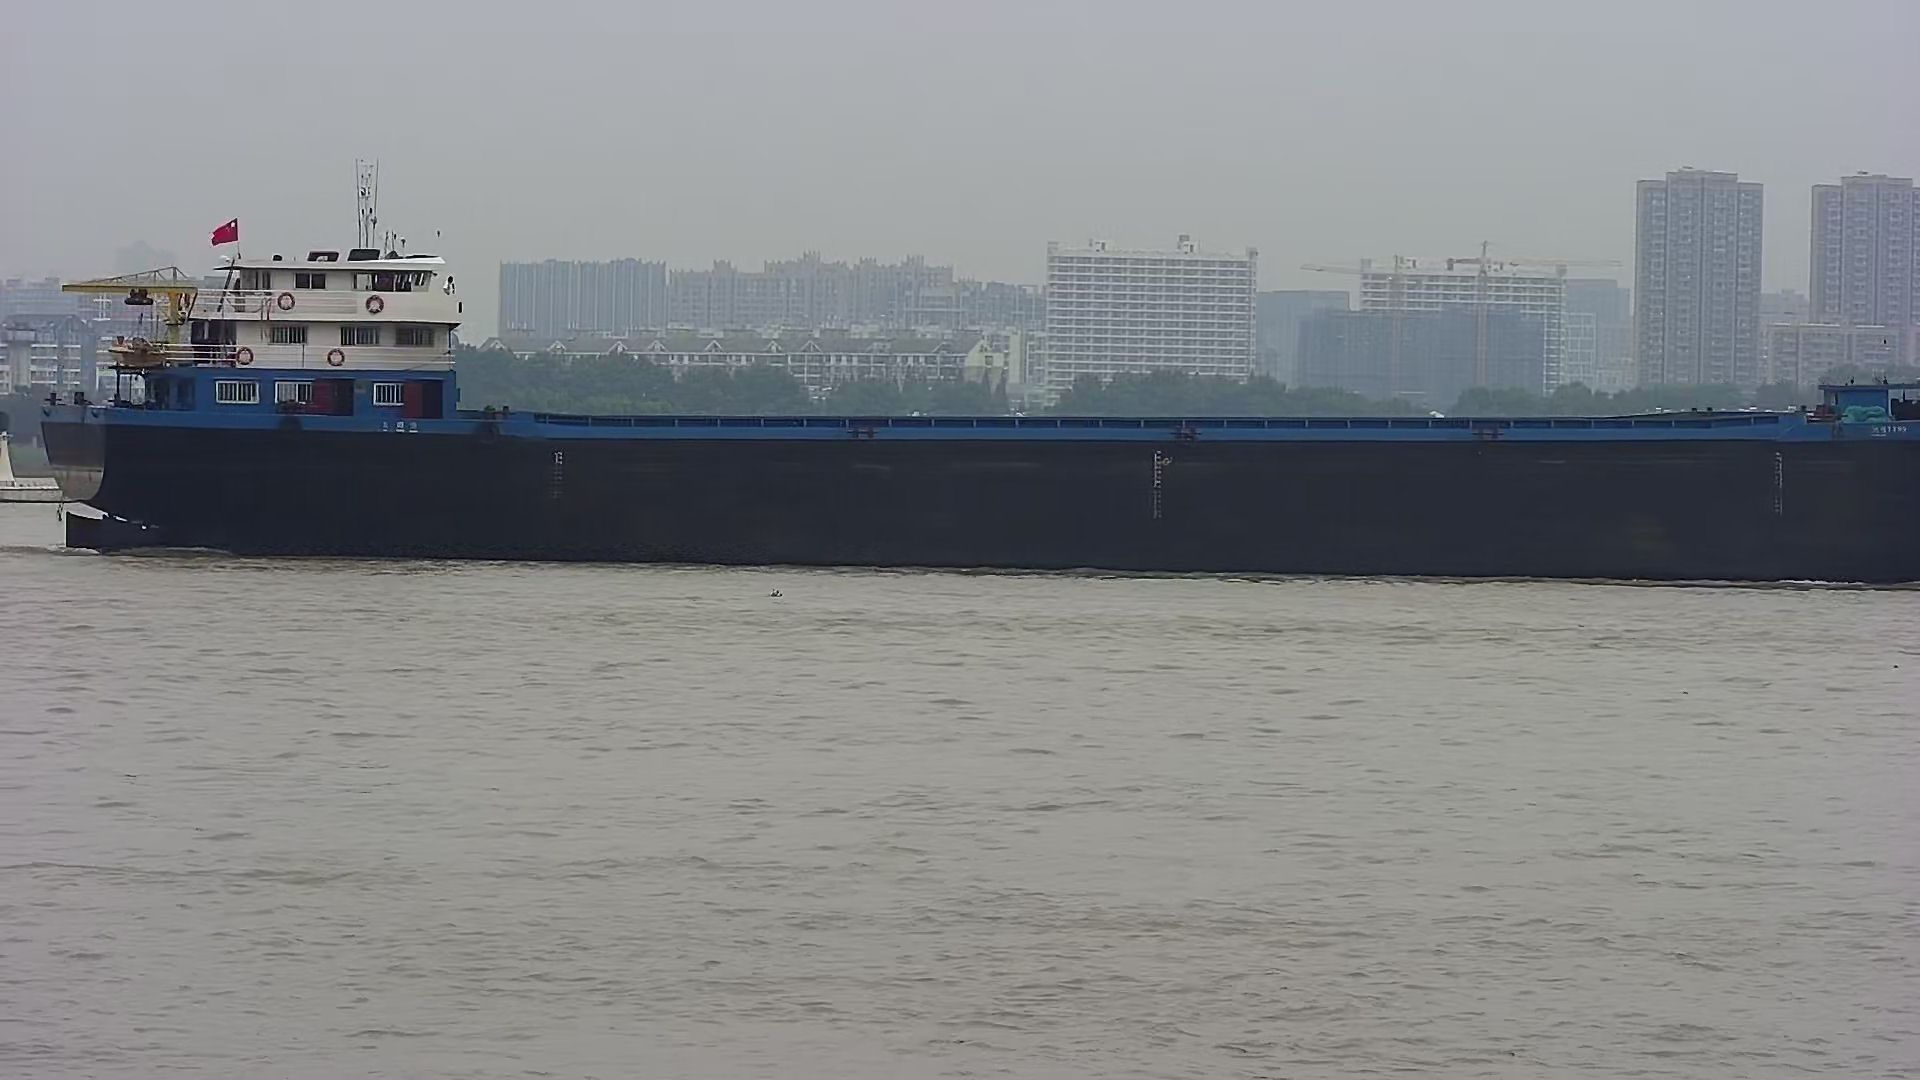ship: (38, 142, 1920, 595)
